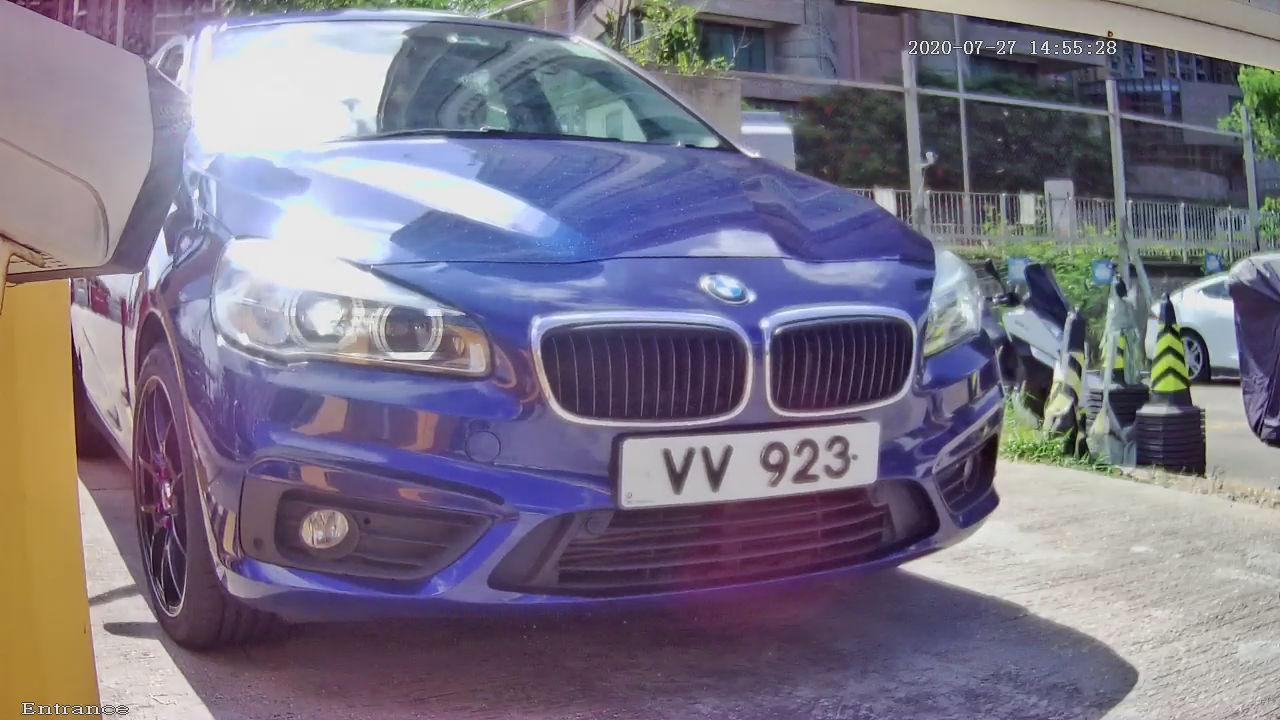privatecar: (35, 23, 1092, 669)
